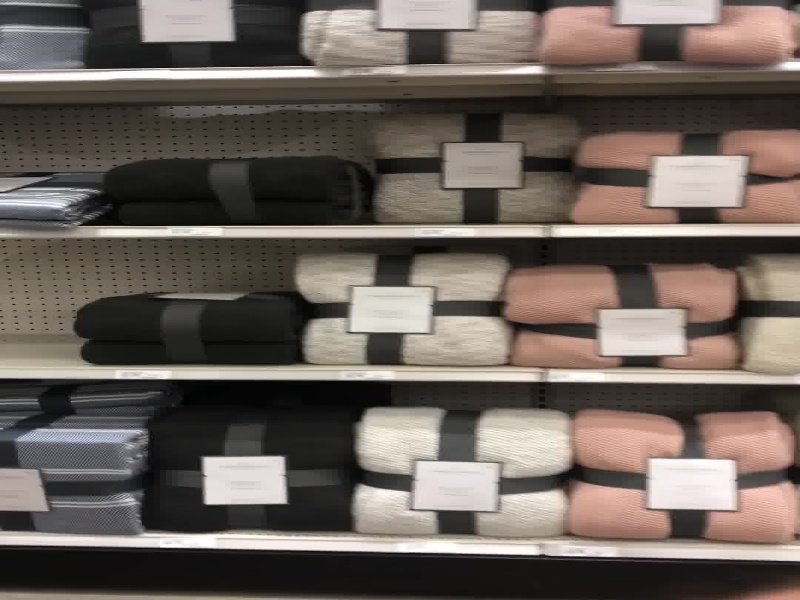empty_shelf_space: (1, 234, 74, 366)
